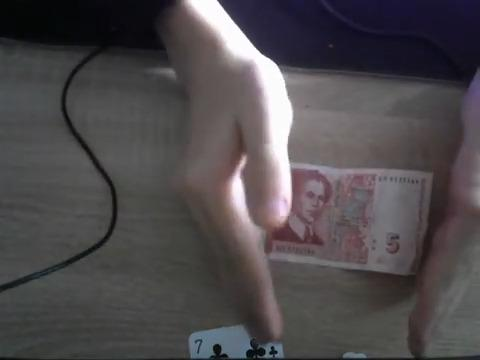5leva: (268, 163, 436, 277), (274, 165, 408, 258)
